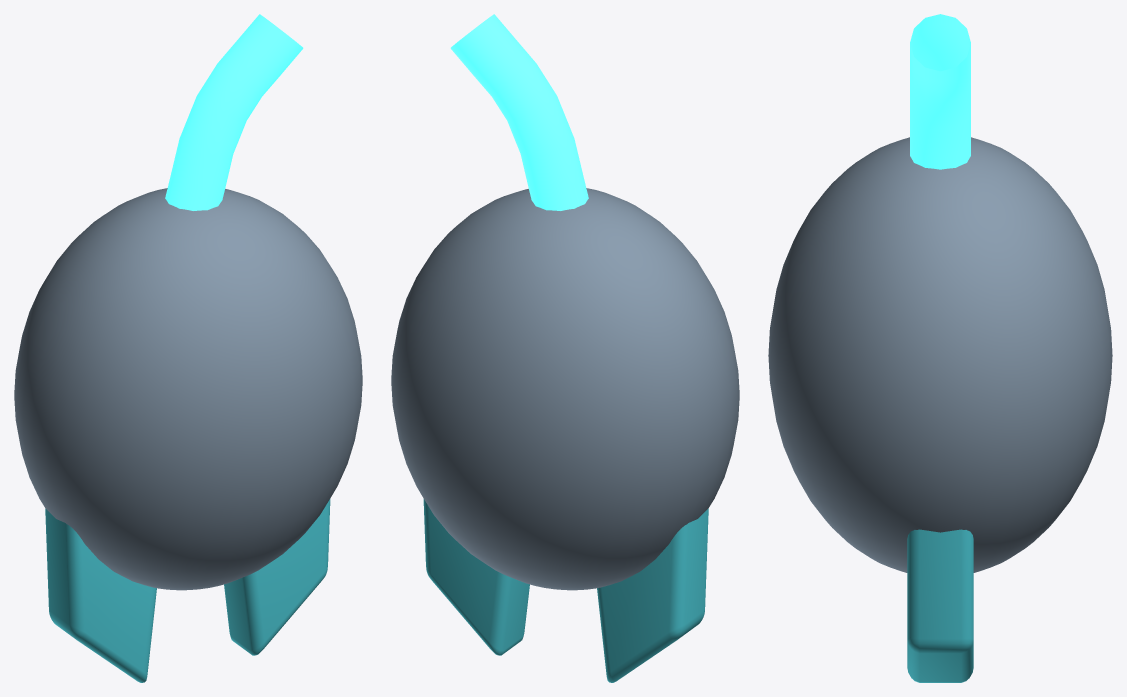
Rendered from helm_v3.glb.
The picture shows the model from 3 angles, left to right: view 1: azimuth 30°, elevation 25°; view 2: azimuth 150°, elevation 25°; view 3: azimuth 270°, elevation 25°; orthographic projection. The views are drawn at different scales.
Parts seen in each view (by area): view 1: BARBUTE_SHELL_PRIMARY, BARBUTE_PLUME_EMISSIVE, CHEEK_L_ACCENT, CHEEK_R_ACCENT; view 2: BARBUTE_SHELL_PRIMARY, BARBUTE_PLUME_EMISSIVE, CHEEK_L_ACCENT, CHEEK_R_ACCENT; view 3: BARBUTE_SHELL_PRIMARY, CHEEK_R_ACCENT, BARBUTE_PLUME_EMISSIVE.
Boxes of the visible parts, x1,y1,x2,y2 form: BARBUTE_SHELL_PRIMARY: (14,188,362,590); BARBUTE_PLUME_EMISSIVE: (165,14,303,210); CHEEK_L_ACCENT: (45,508,156,682); CHEEK_R_ACCENT: (224,499,330,655); BARBUTE_SHELL_PRIMARY: (391,188,739,590); BARBUTE_PLUME_EMISSIVE: (450,14,588,210); CHEEK_L_ACCENT: (597,508,708,682); CHEEK_R_ACCENT: (423,499,529,655); BARBUTE_SHELL_PRIMARY: (768,137,1112,572); CHEEK_R_ACCENT: (907,529,973,682); BARBUTE_PLUME_EMISSIVE: (910,14,970,169).
Size of the model in its own units: 1.4 by 2.7 by 1.24.
